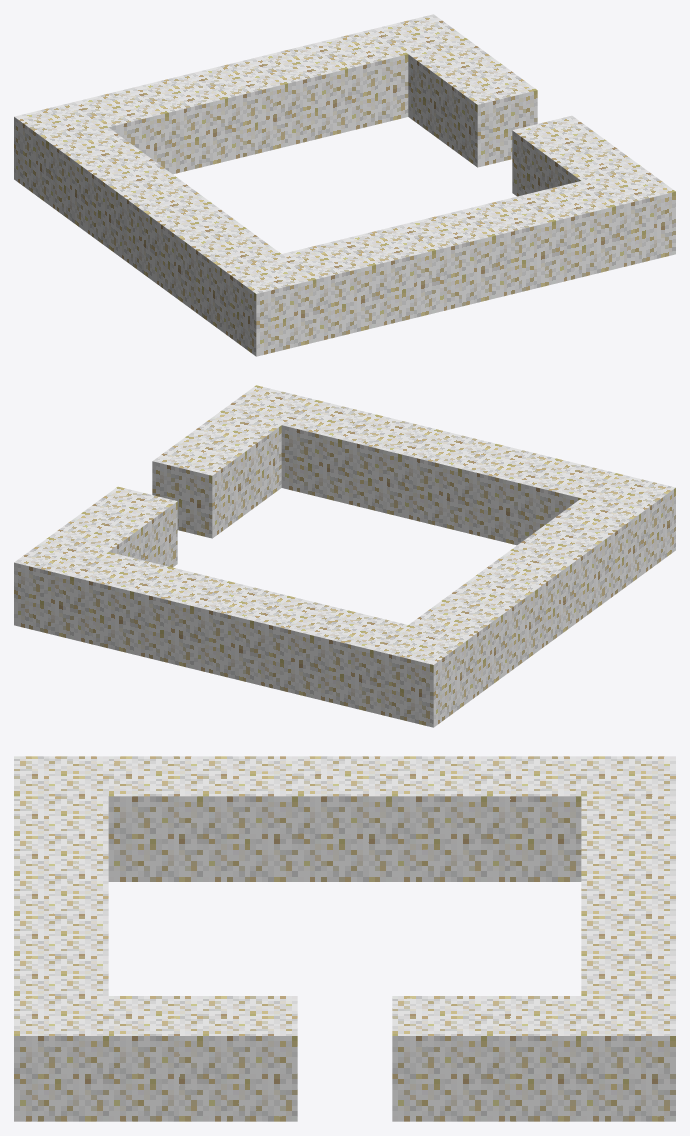
The model's file is Courtyard.gltf.
3 views of the same model, one above another, from view 1: azimuth 30°, elevation 25°; view 2: azimuth 150°, elevation 25°; view 3: azimuth 270°, elevation 25° (orthographic). The views are drawn at different scales.
Visible parts, largest first — view 1: cube; view 2: cube; view 3: cube.
Part boxes in pixels (x1,y1,x2,y2): cube: (14, 14, 675, 356); cube: (14, 385, 675, 727); cube: (14, 756, 675, 1121).
Bounding box in the file's own units: 7 × 1 × 7.
Materials: 1 (1 with a texture image).
